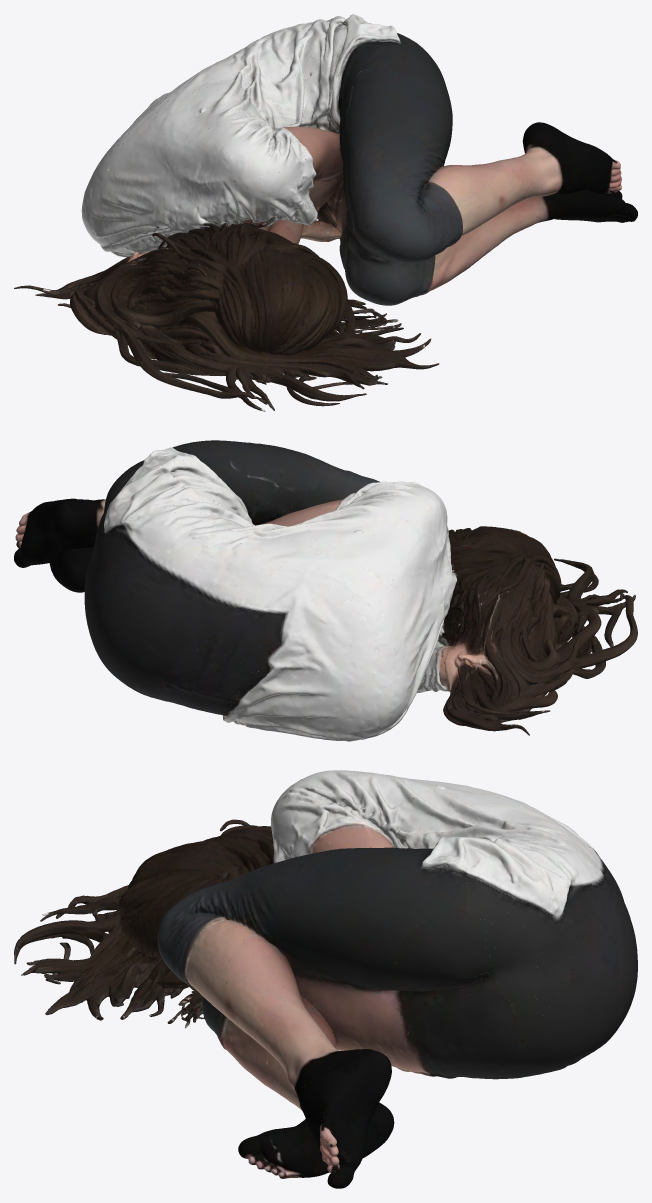
File: curled_up_silence (1).glb
3 views of the same model, one above another, from view 1: azimuth 30°, elevation 25°; view 2: azimuth 150°, elevation 25°; view 3: azimuth 270°, elevation 25° (orthographic). The views are drawn at different scales.
Parts seen in each view (by area): view 1: Object_7, Object_11, Object_6, Object_4, Object_5, Object_10, Object_8, Object_12, Object_9; view 2: Object_7, Object_11, Object_4, Object_6, Object_5, Object_12, Object_9, Object_10, Object_8; view 3: Object_7, Object_6, Object_11, Object_5, Object_8, Object_4, Object_12, Object_10, Object_9.
Boxes of the visible parts, left/top/right/bottom form: Object_7: left=71, top=16, right=622, bottom=411; Object_11: left=35, top=16, right=632, bottom=357; Object_6: left=77, top=29, right=637, bottom=391; Object_4: left=43, top=14, right=636, bottom=388; Object_5: left=83, top=18, right=562, bottom=406; Object_10: left=120, top=153, right=637, bottom=398; Object_8: left=106, top=122, right=502, bottom=384; Object_12: left=14, top=15, right=621, bottom=333; Object_9: left=61, top=19, right=621, bottom=411; Object_7: left=15, top=440, right=635, bottom=740; Object_11: left=64, top=440, right=598, bottom=741; Object_4: left=81, top=444, right=601, bottom=737; Object_6: left=52, top=450, right=637, bottom=734; Object_5: left=14, top=473, right=603, bottom=741; Object_12: left=15, top=441, right=566, bottom=739; Object_9: left=15, top=495, right=637, bottom=729; Object_10: left=334, top=466, right=637, bottom=677; Object_8: left=217, top=468, right=605, bottom=678; Object_7: left=21, top=775, right=637, bottom=1188; Object_6: left=55, top=770, right=636, bottom=1175; Object_11: left=247, top=772, right=636, bottom=1177; Object_5: left=26, top=776, right=592, bottom=1187; Object_8: left=73, top=826, right=321, bottom=1082; Object_4: left=45, top=775, right=550, bottom=1178; Object_12: left=297, top=772, right=603, bottom=1183; Object_10: left=79, top=819, right=270, bottom=1155; Object_9: left=14, top=787, right=496, bottom=1172.
Size of the model in its own units: 1.9 by 0.6469 by 1.54.
1 material, 1 textured.
